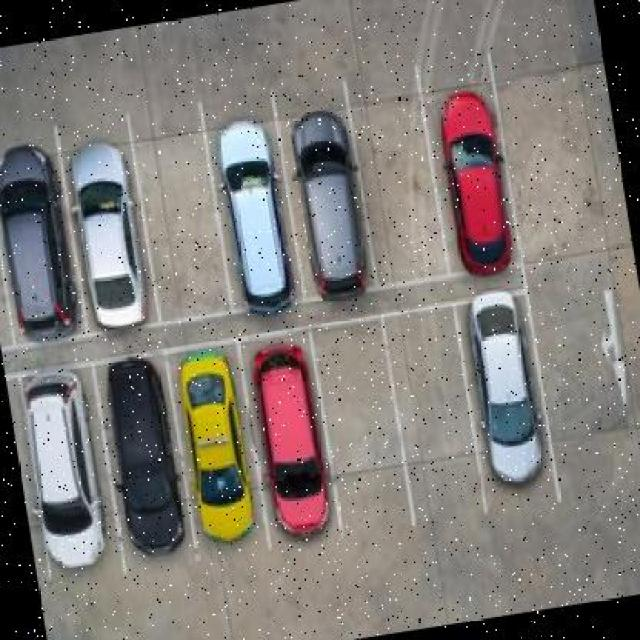Car: (207, 101, 303, 329), (460, 283, 557, 500), (66, 123, 167, 330), (249, 357, 340, 583), (95, 355, 192, 559), (19, 372, 115, 578), (282, 100, 378, 300), (172, 358, 259, 553), (434, 87, 520, 280), (1, 124, 79, 335)
Empty: (386, 313, 489, 512), (352, 80, 450, 286), (315, 327, 409, 540), (132, 120, 224, 317)
